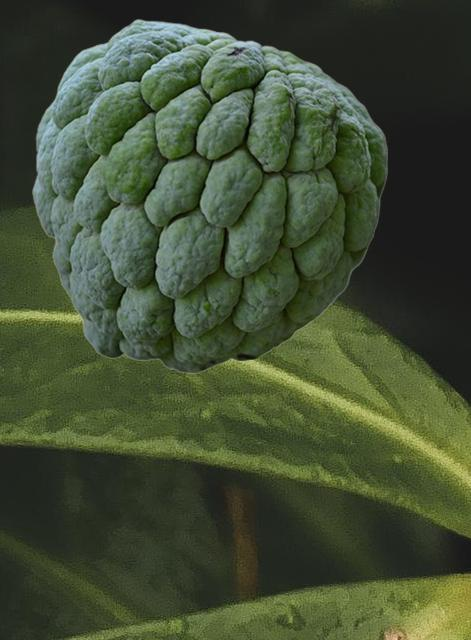atis: (32, 19, 387, 372)
